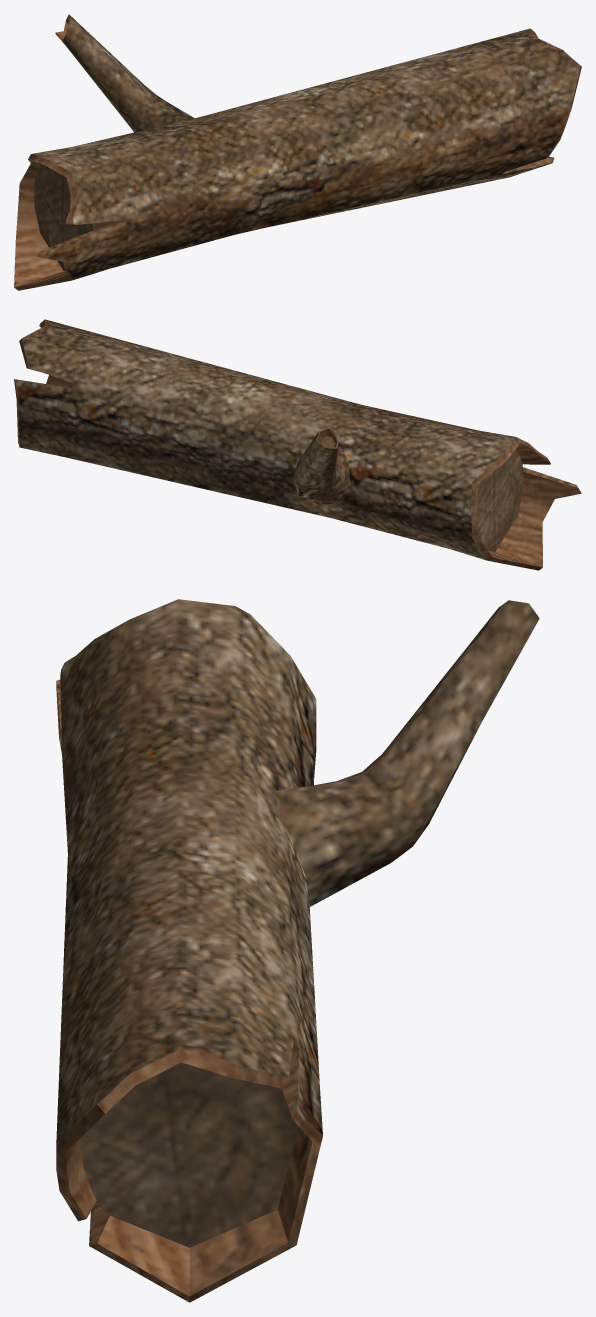
File: CAMP_log.FBX
The picture shows the model from 3 angles, top to bottom: view 1: azimuth 30°, elevation 25°; view 2: azimuth 150°, elevation 25°; view 3: azimuth 270°, elevation 25°; orthographic projection. The views are drawn at different scales.
Parts seen in each view (by area): view 1: CAMP_log; view 2: CAMP_log; view 3: CAMP_log.
Boxes of the visible parts, bbox=[...] form: CAMP_log: bbox=[14, 14, 581, 290]; CAMP_log: bbox=[14, 319, 581, 570]; CAMP_log: bbox=[56, 599, 539, 1302].
Size of the model in its own units: 220 by 66.9 by 86.31.
Materials: 1 (1 with a texture image).
